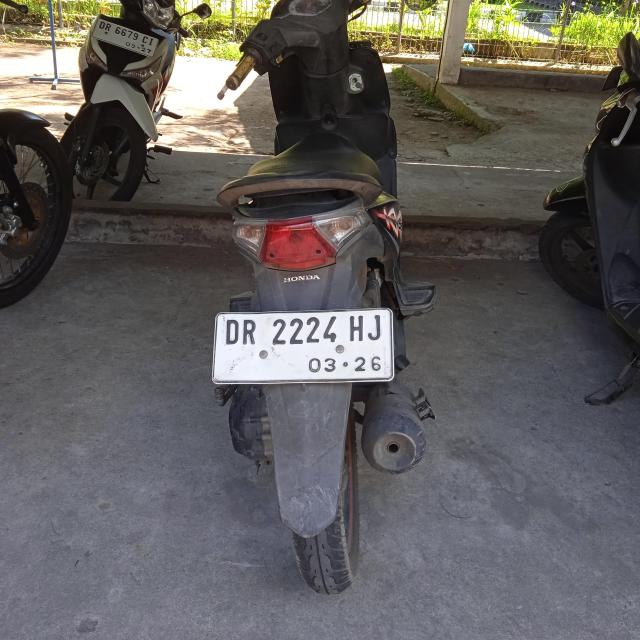plate: (214, 309, 391, 381), (91, 17, 160, 58)
